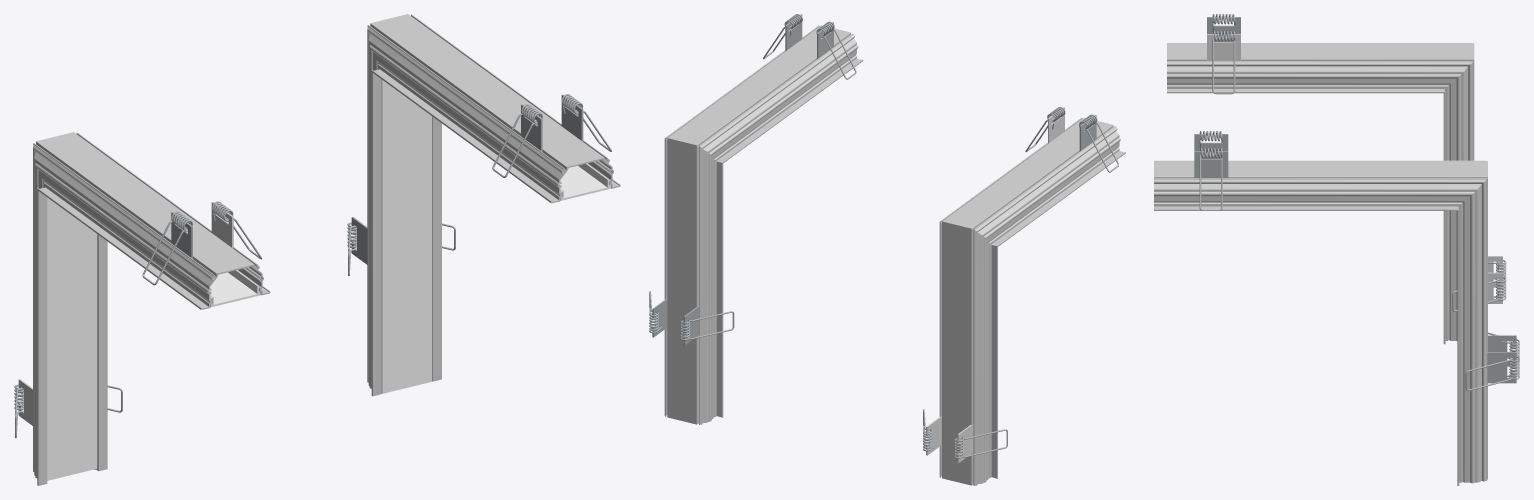
The model's file is Fit40StandardEmbutido-curva-teto-parede.glb.
The picture shows the model from 3 angles, left to right: view 1: azimuth 30°, elevation 25°; view 2: azimuth 150°, elevation 25°; view 3: azimuth 270°, elevation 25°; orthographic projection. The views are drawn at different scales.
Visible parts, largest first — view 1: 3DGeom-1 (×2), 3DGeom-21 (×2), 3DGeom-7 (×2), 3DGeom-15 (×2); view 2: 3DGeom-1 (×2), 3DGeom-21 (×2); view 3: 3DGeom-1 (×2), 3DGeom-21 (×2), 3DGeom-3 (×4), 3DGeom-13 (×2), 3DGeom-4 (×2), 3DGeom-14.
Part boxes in pixels (x1,y1,x2,y2): 3DGeom-1 (×2): (367,14,620,396); 3DGeom-21 (×2): (33,132,270,485); 3DGeom-7 (×2): (381,79,610,393); 3DGeom-15 (×2): (47,198,260,480); 3DGeom-1 (×2): (664,25,863,424); 3DGeom-21 (×2): (939,117,1125,485); 3DGeom-1 (×2): (1154,160,1487,485); 3DGeom-21 (×2): (1167,43,1474,344); 3DGeom-3 (×4): (1194,134,1516,383); 3DGeom-13 (×2): (1207,17,1240,60); 3DGeom-4 (×2): (1199,147,1519,391); 3DGeom-14: (1212,31,1235,94).
Bounding box in the file's own units: 0.3311 × 0.2742 × 0.2739.
3 materials, 1 textured.
